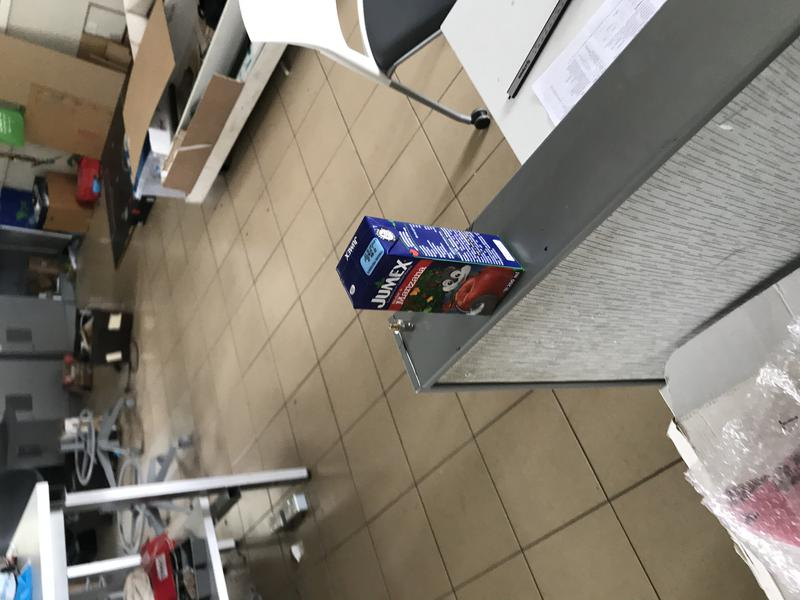jumex_cajita: (336, 215, 525, 322)
